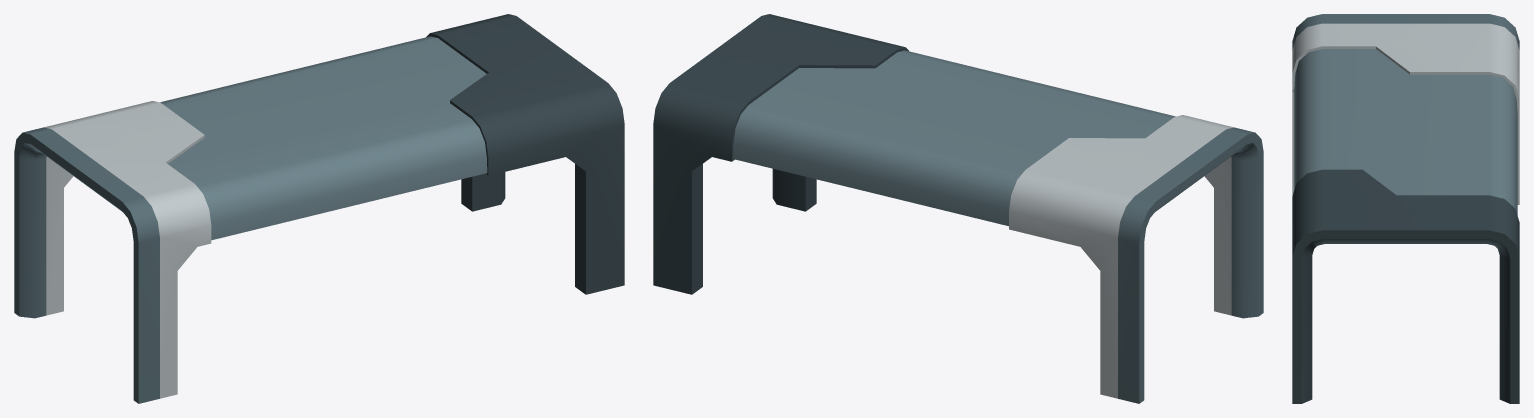
Rendered from Desk_029.fbx.
3 renders of one model, left to right at view 1: azimuth 30°, elevation 25°; view 2: azimuth 150°, elevation 25°; view 3: azimuth 270°, elevation 25°, orthographic. The views are drawn at different scales.
Parts seen in each view (by area): view 1: Desk_029; view 2: Desk_029; view 3: Desk_029.
Part boxes in pixels (x1=…): Desk_029: x1=14, y1=14, x2=624, y2=403; Desk_029: x1=653, y1=14, x2=1263, y2=403; Desk_029: x1=1292, y1=14, x2=1519, y2=403.
Bounding box in the file's own units: 235 × 104 × 87.75.
